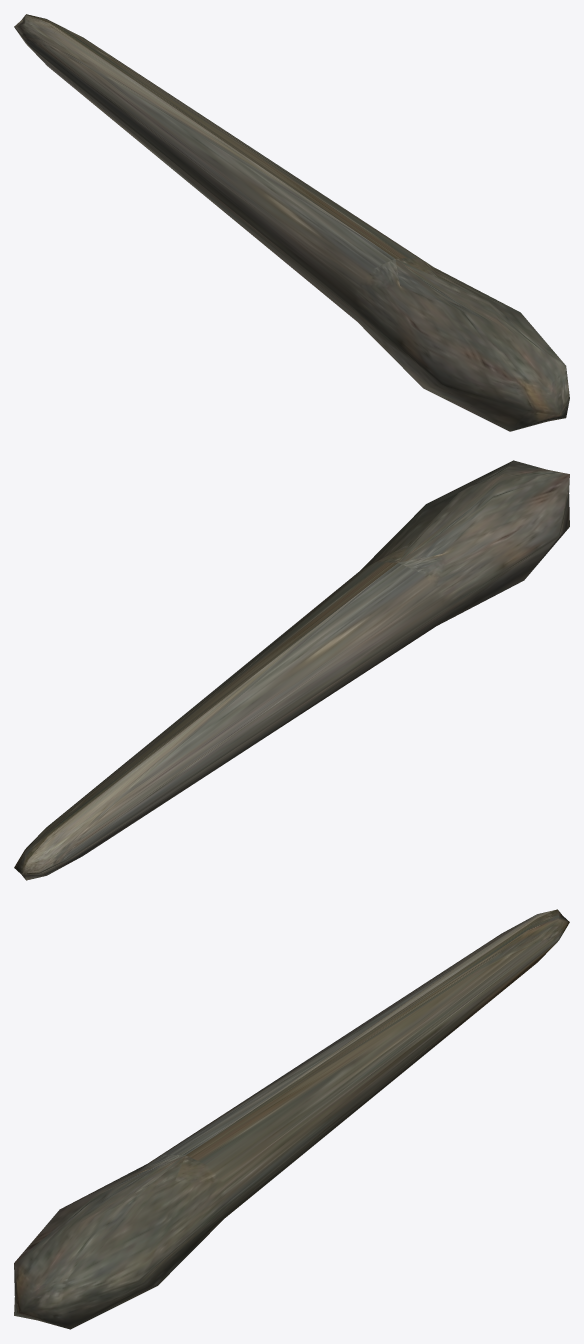
The model's file is clubold.glb.
3 views of the same model, one above another, from view 1: azimuth 30°, elevation 25°; view 2: azimuth 150°, elevation 25°; view 3: azimuth 330°, elevation 25° (orthographic).
Visible parts, largest first — view 1: club.ms3d.mo; view 2: club.ms3d.mo; view 3: club.ms3d.mo.
Part boxes in pixels (left/top/right/bottom): club.ms3d.mo: left=14, top=14, right=569, bottom=431; club.ms3d.mo: left=14, top=460, right=569, bottom=880; club.ms3d.mo: left=14, top=909, right=569, bottom=1329.
Bounding box in the file's own units: 10.78 × 8.3 × 89.28.
Materials: 1 (1 with a texture image).
